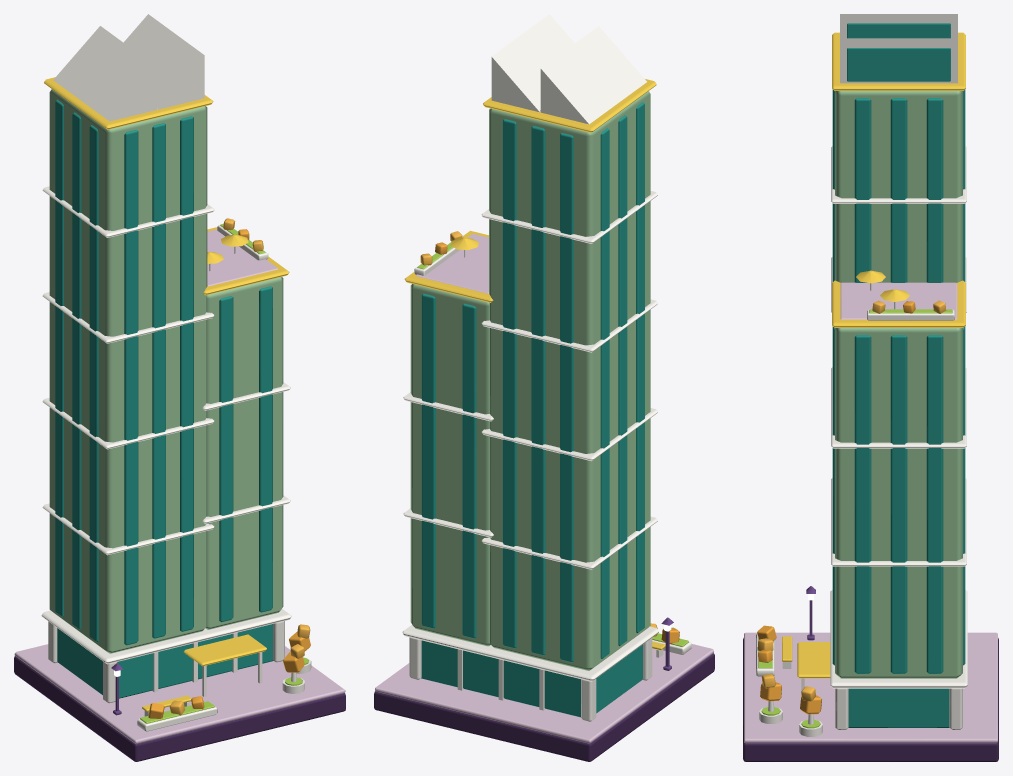
File: modern_building_2Level_Demo.glb
3 renders of one model, left to right at view 1: azimuth 30°, elevation 25°; view 2: azimuth 150°, elevation 25°; view 3: azimuth 270°, elevation 25°, orthographic. The views are drawn at different scales.
Parts seen in each view (by area): view 1: MB2_Sage, MB2_Teal, MB2_White, MB2_Paving, MB2_Base, MB2_Yellow, MB2_Leaf, MB2_Leaf2, MB2_Grass; view 2: MB2_Sage, MB2_Teal, MB2_White, MB2_Paving, MB2_Base, MB2_Yellow; view 3: MB2_Sage, MB2_Teal, MB2_Paving, MB2_White, MB2_Yellow, MB2_Base, MB2_Leaf, MB2_Leaf2, MB2_Grass.
Part boxes in pixels (x1,y1,x2,y2): MB2_Sage: (49, 89, 283, 653); MB2_Teal: (55, 99, 273, 698); MB2_White: (41, 14, 311, 731); MB2_Paving: (14, 107, 345, 744); MB2_Base: (14, 656, 345, 761); MB2_Yellow: (44, 77, 289, 711); MB2_Leaf: (148, 229, 310, 718); MB2_Leaf2: (169, 218, 310, 715); MB2_Grass: (140, 223, 308, 723); MB2_Sage: (410, 91, 650, 670); MB2_Teal: (421, 102, 644, 717); MB2_White: (402, 14, 691, 721); MB2_Paving: (375, 110, 713, 743); MB2_Base: (374, 653, 714, 761); MB2_Yellow: (404, 79, 665, 650); MB2_Sage: (835, 91, 962, 678); MB2_Teal: (832, 23, 965, 727); MB2_Paving: (744, 282, 997, 743); MB2_White: (756, 14, 967, 736); MB2_Yellow: (782, 32, 965, 678); MB2_Base: (743, 638, 998, 761); MB2_Leaf: (757, 301, 915, 714); MB2_Leaf2: (757, 300, 946, 701); MB2_Grass: (758, 309, 952, 728).
Bounding box in the file's own units: 3.2 × 9.33 × 3.2.
